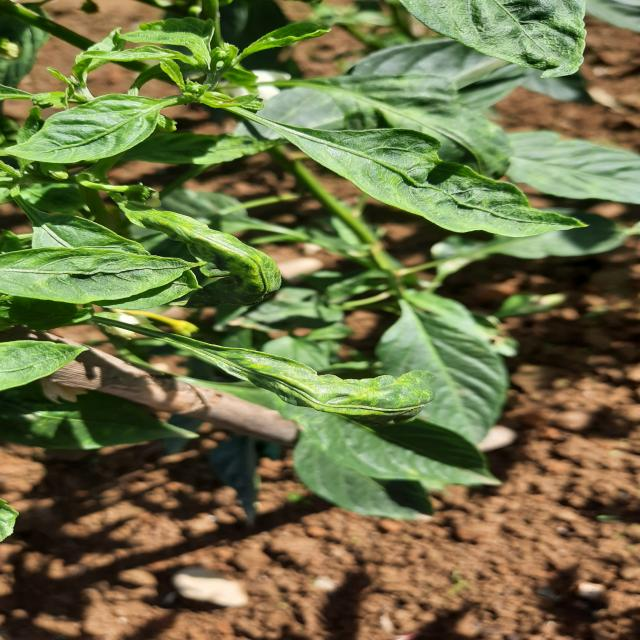thrips: (0, 91, 202, 186), (0, 242, 216, 310)
